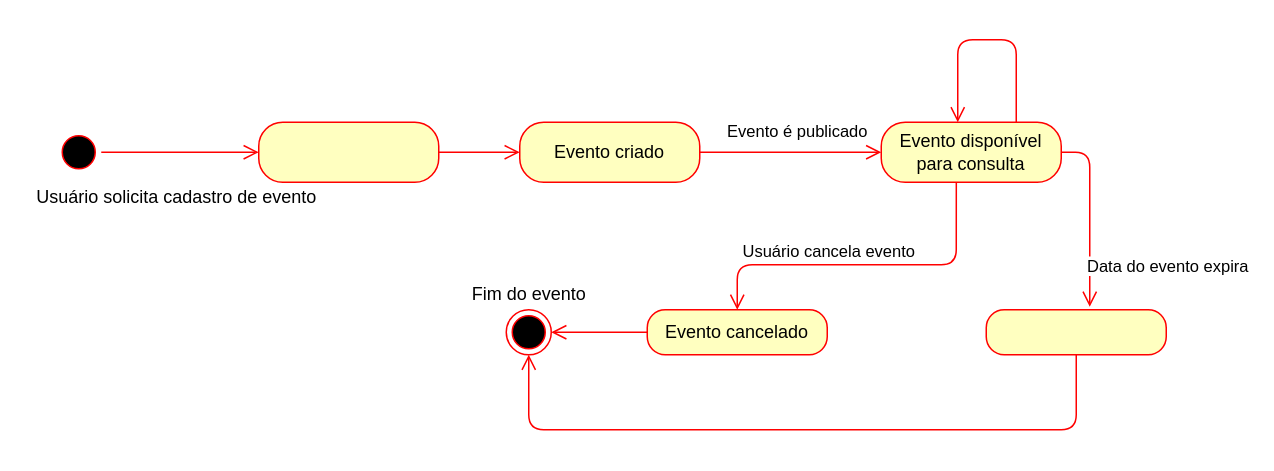
The diagram is 1274 pixels wide and 471 high, and some of its shapes have lost their labels. The shapes that lost their labels are listed below. From the top down, each one's centre as x and y in pixels, then its label:
the point at 348,151: Preenchimento sobre dados do evento
the point at 1075,331: Evento encerrado
